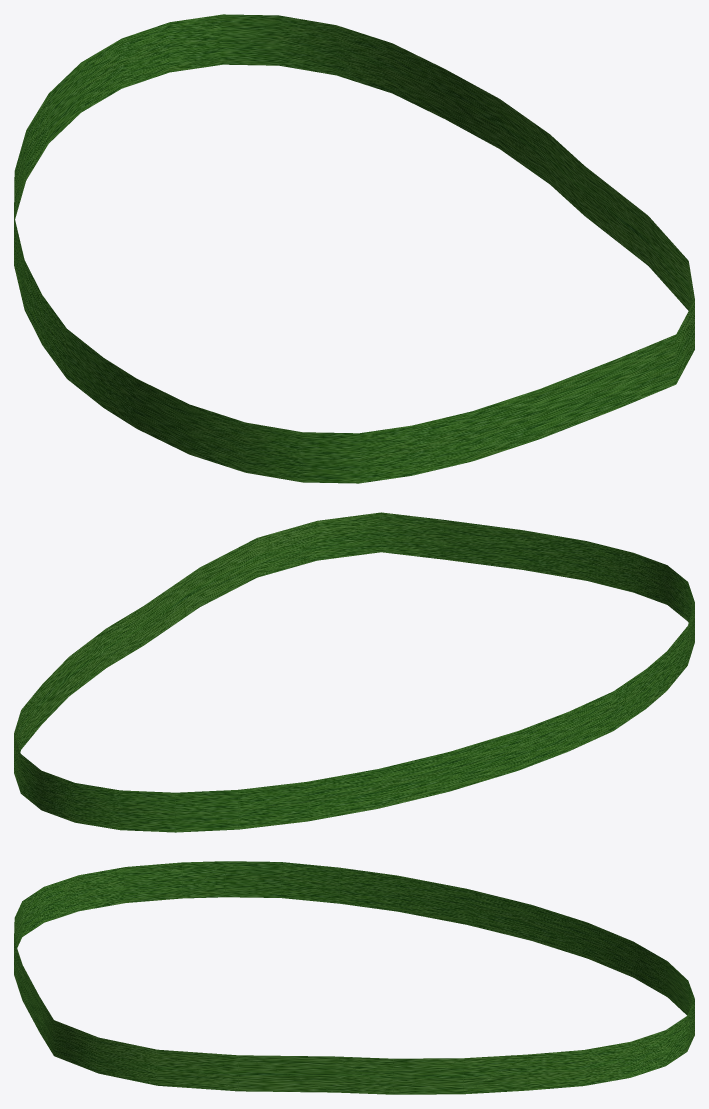
The model's file is cource05grass_wall.obj.
3 renders of one model, top to bottom at view 1: azimuth 30°, elevation 25°; view 2: azimuth 150°, elevation 25°; view 3: azimuth 270°, elevation 25°, orthographic. The views are drawn at different scales.
Bounding box in the file's own units: 235 × 20 × 342.
